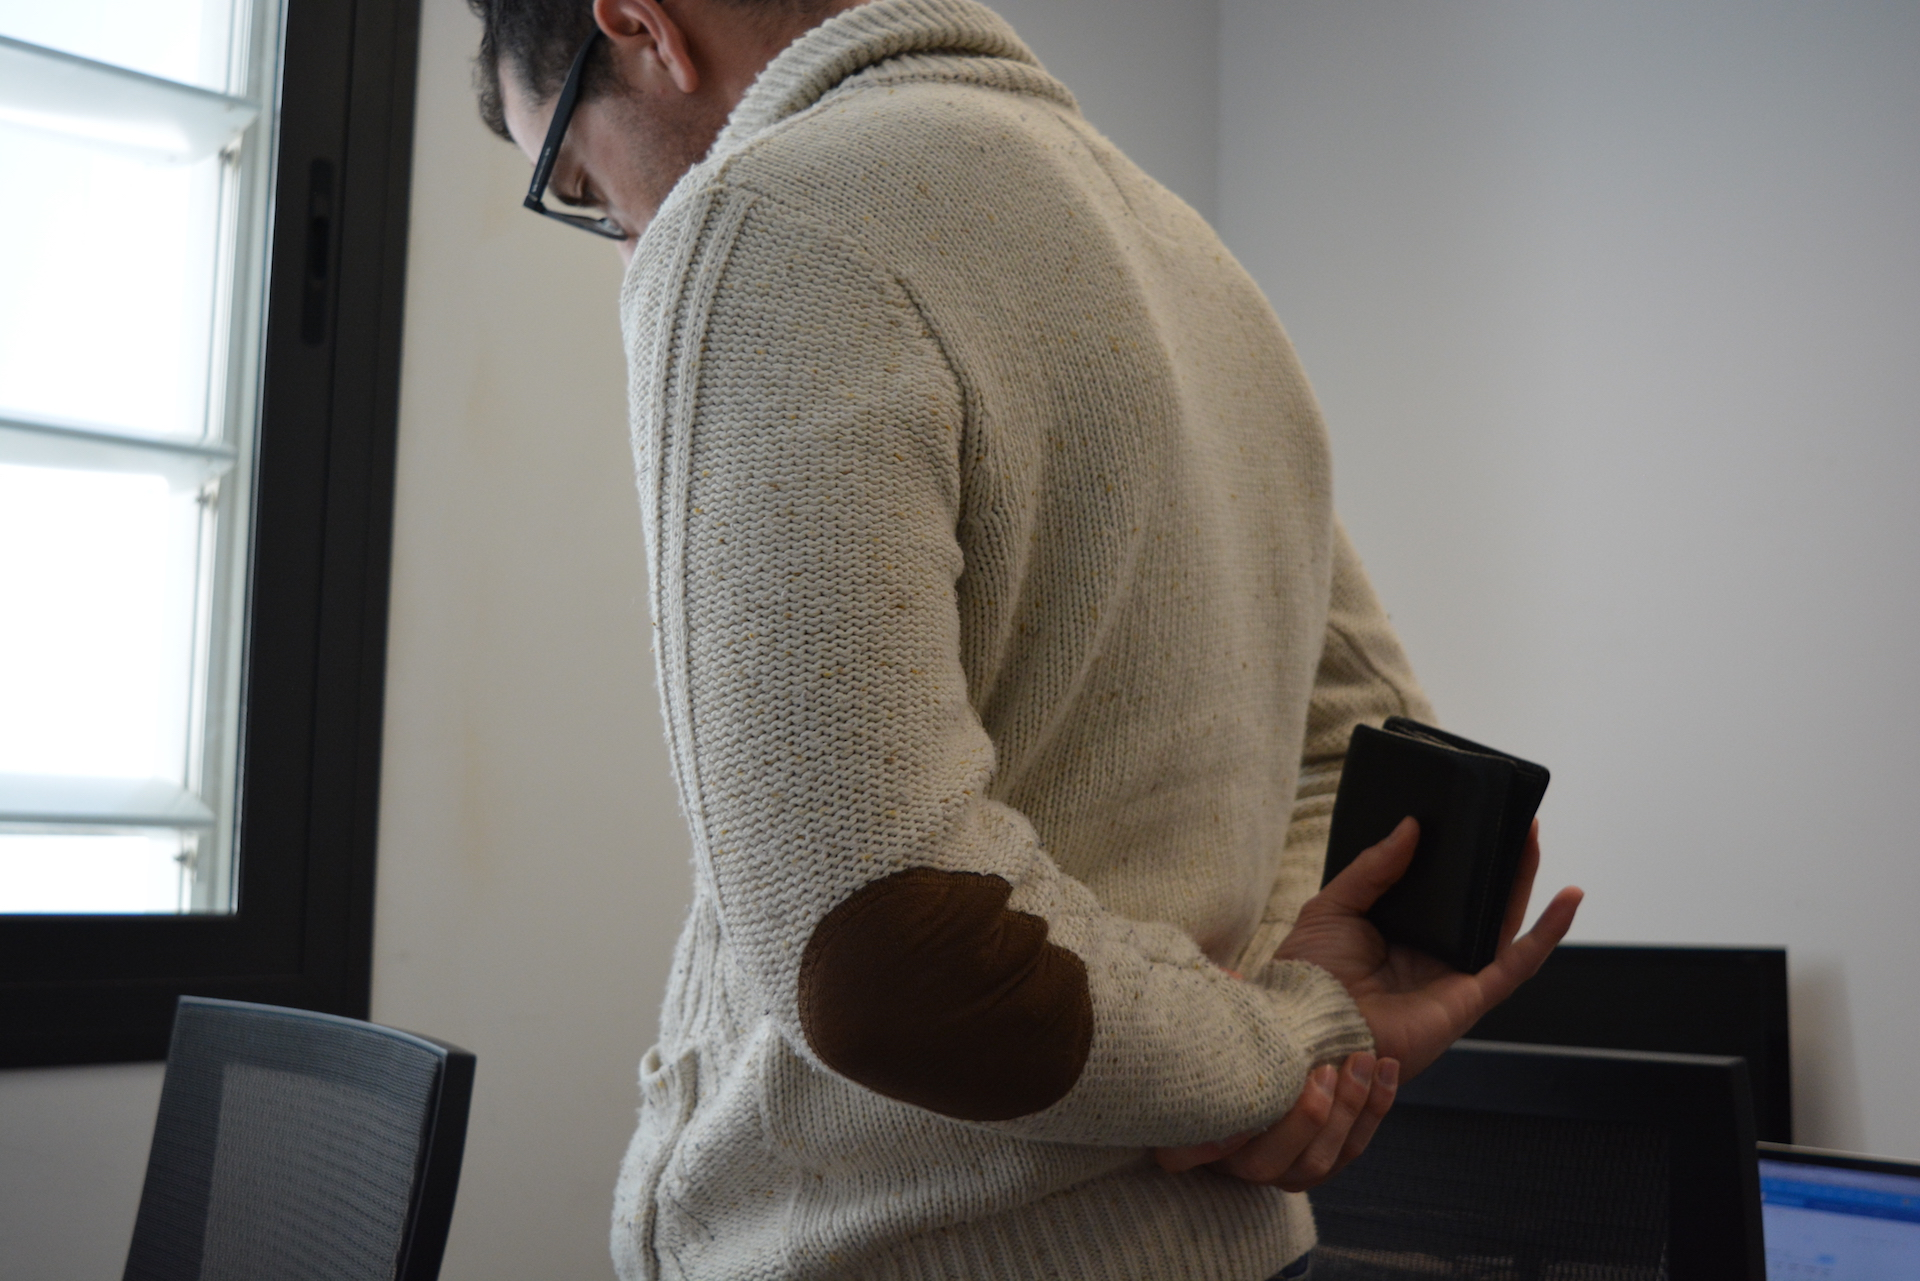monedero: (1317, 713, 1553, 979)
